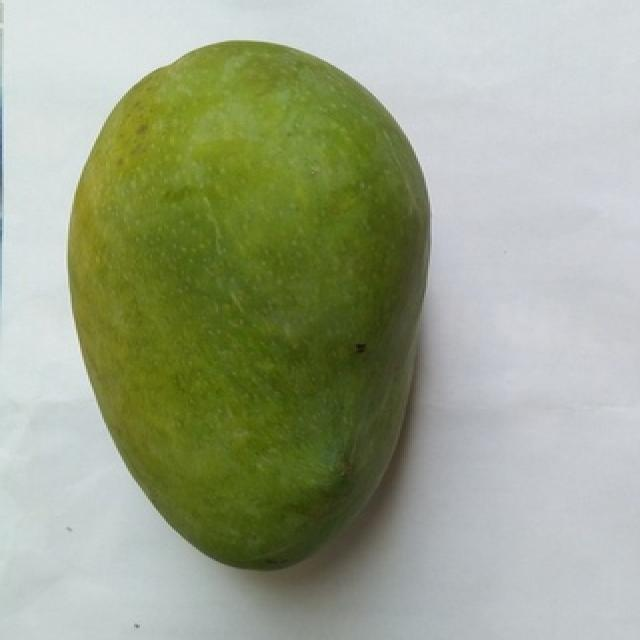Mango: (68, 43, 428, 567)
